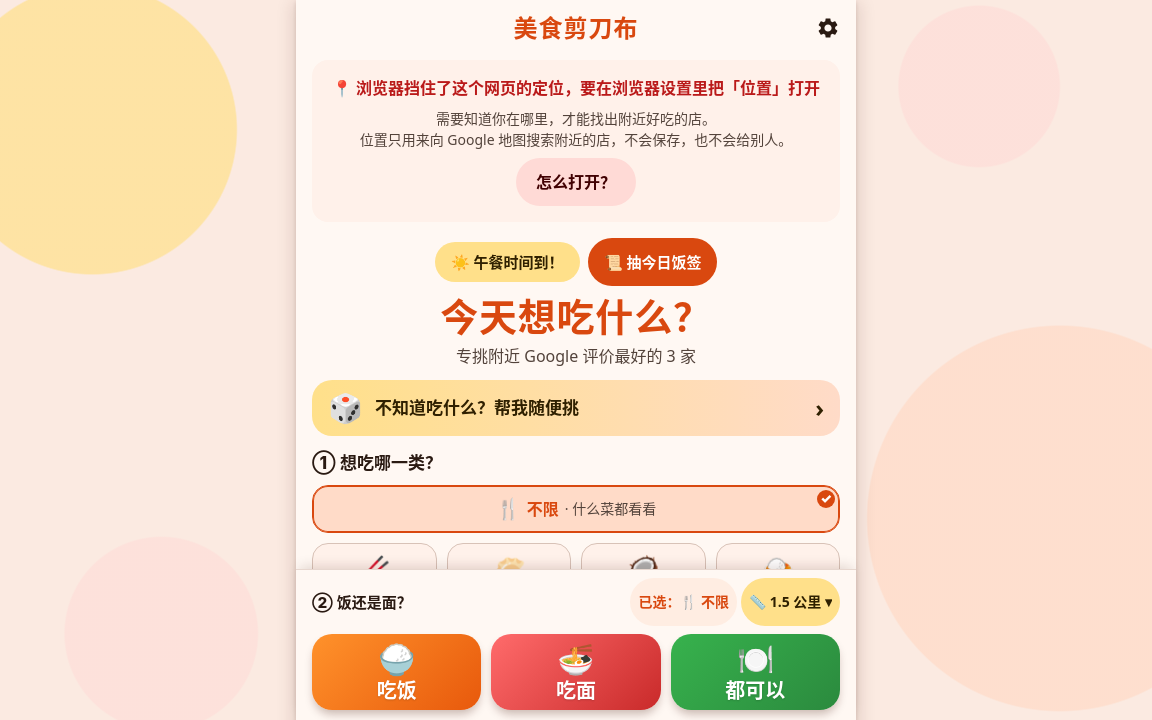
Scenario: 定位（功能清单第四节、31.4，测试 WEB-16） › 浏览器挡住了：不说明「好，去允许」，卡片说在浏览器设置里打开；「怎么打开？」有安卓和 iPhone 的步骤
What coordinates should you click on to do the following:
click the button "怎么打开？"
I would click on:
 (576, 182)
Its box is [516,158,636,206].
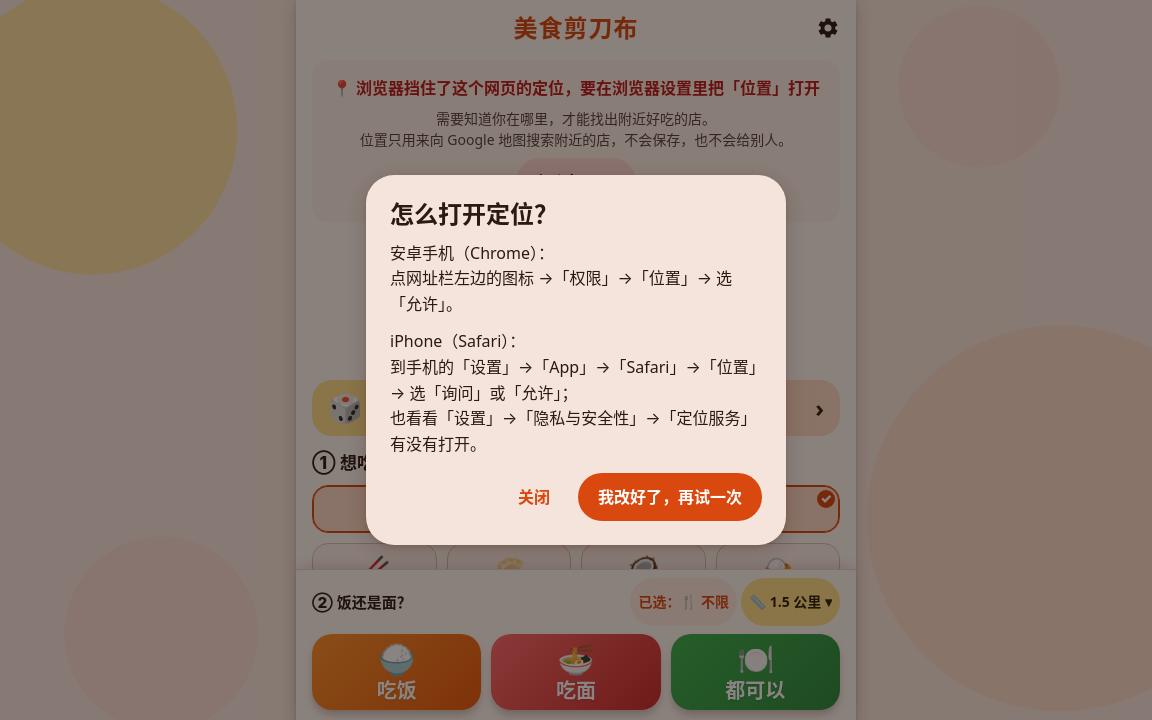
Check: the button "我改好了，再试一次" is shown, box [578,473,762,521]
